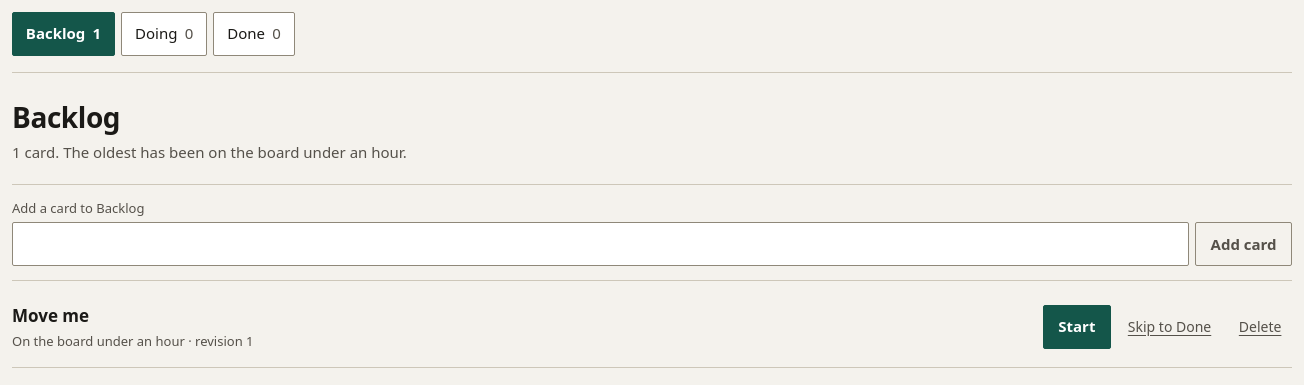
Test: Board › starts a card in Backlog and shows it under Doing
Expected: the text "Move me" is shown, top-left (12, 304), bottom-right (89, 327)
What coordinates should you click on to do the following:
click the button named "Start: move \"Move me\" to Doing"
I would click on:
 (1077, 327)
Its box is top-left (1043, 305), bottom-right (1111, 349).
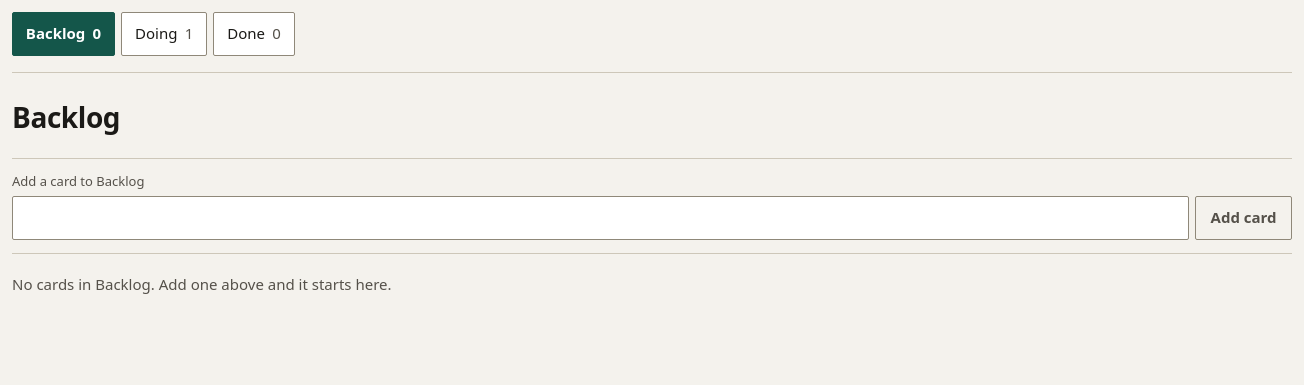
Result: the text "Move me" is gone
What coordinates should you click on to do the following:
click the button "Doing 1"
I would click on:
 (164, 34)
Its box is top-left (121, 12), bottom-right (207, 56).
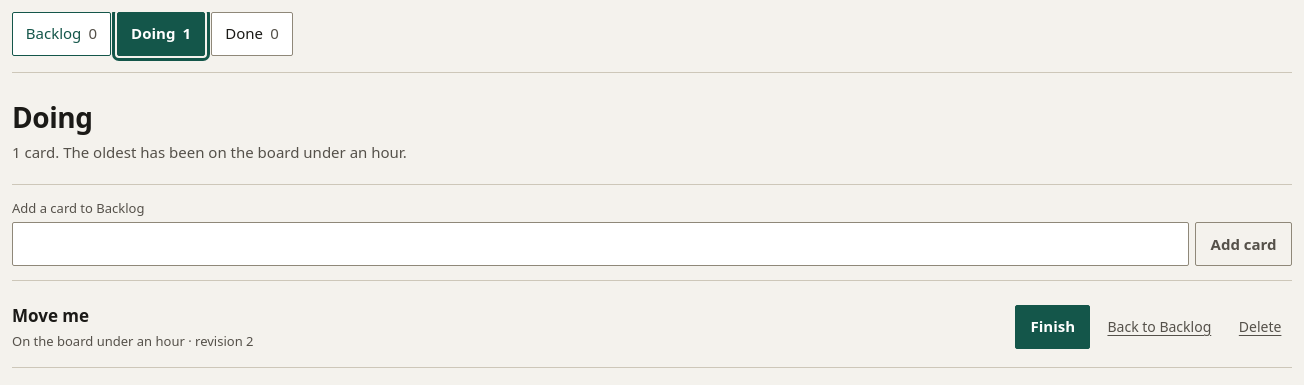
Result: the text "Move me" is shown at top-left (12, 304), bottom-right (89, 327)
